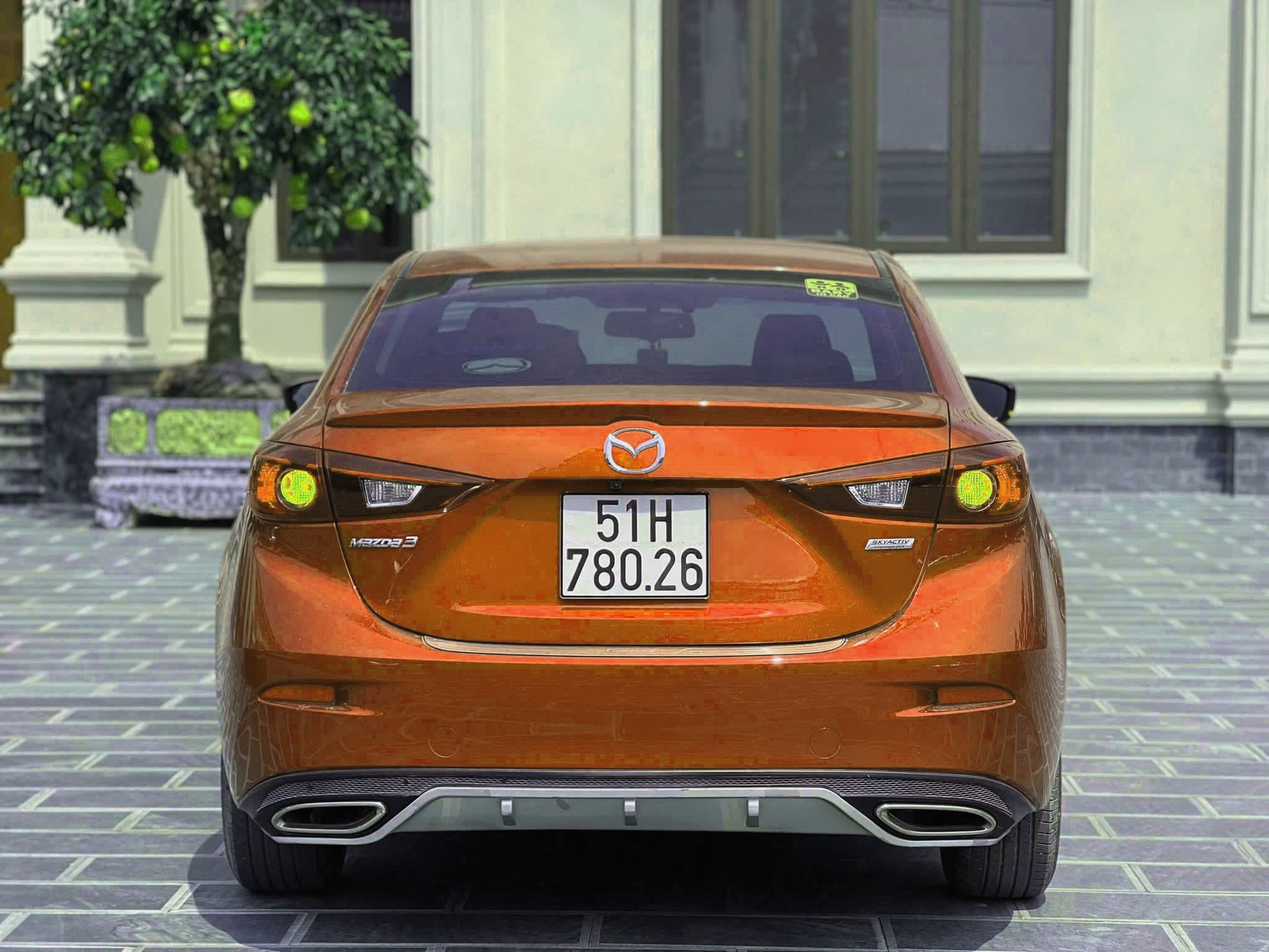Bien-so: (563, 485, 712, 603)
